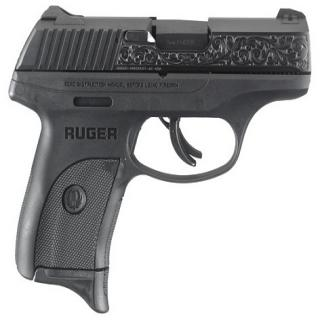gun: (5, 8, 314, 308)
